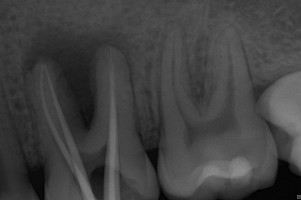Dental Caries: (20, 23, 133, 128)
